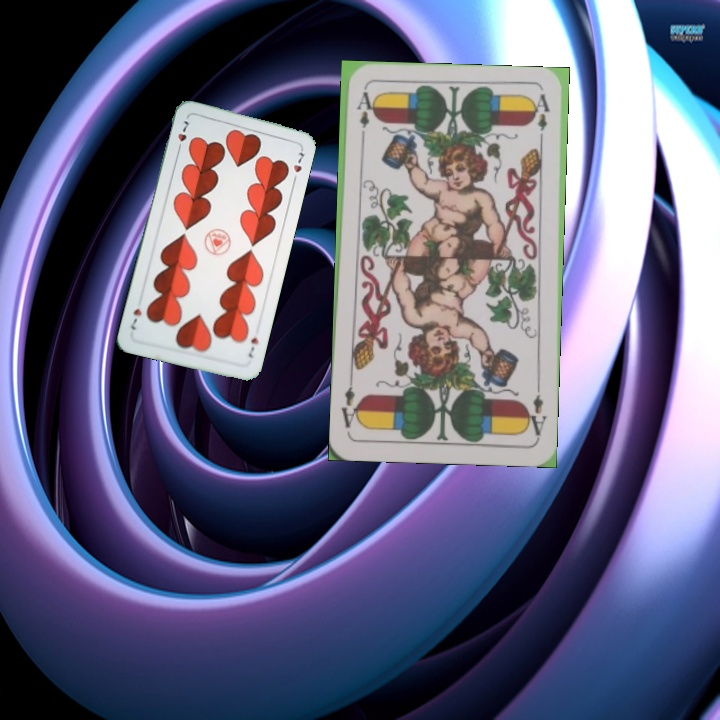EA: (522, 381, 549, 441), (353, 88, 374, 145)
H7: (173, 116, 191, 155), (244, 333, 262, 360)
